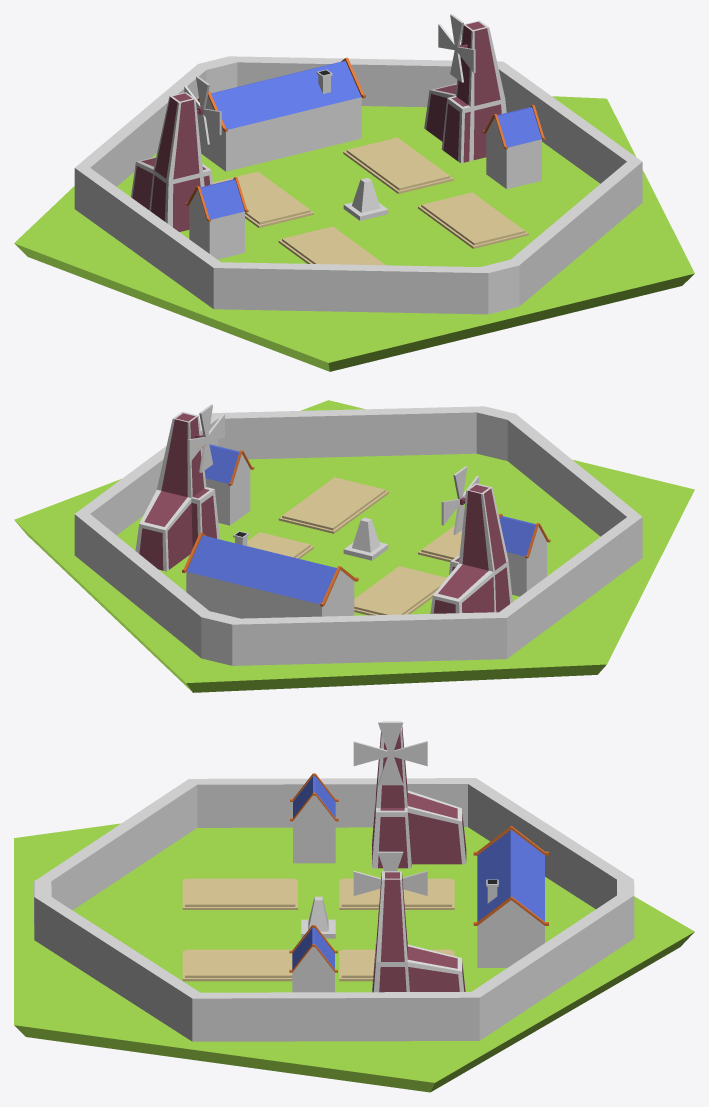
File: VilleViking_2.fbx
3 renders of one model, top to bottom at view 1: azimuth 30°, elevation 25°; view 2: azimuth 150°, elevation 25°; view 3: azimuth 270°, elevation 25°, orthographic. The views are drawn at different scales.
Parts seen in each view (by area): view 1: tiles; view 2: tiles; view 3: tiles.
Boxes of the visible parts, x1=… form: tiles: x1=14, y1=14, x2=694, y2=371; tiles: x1=14, y1=400, x2=694, y2=692; tiles: x1=14, y1=721, x2=694, y2=1092.
Bounding box in the file's own units: 111 × 27.1 × 105.
